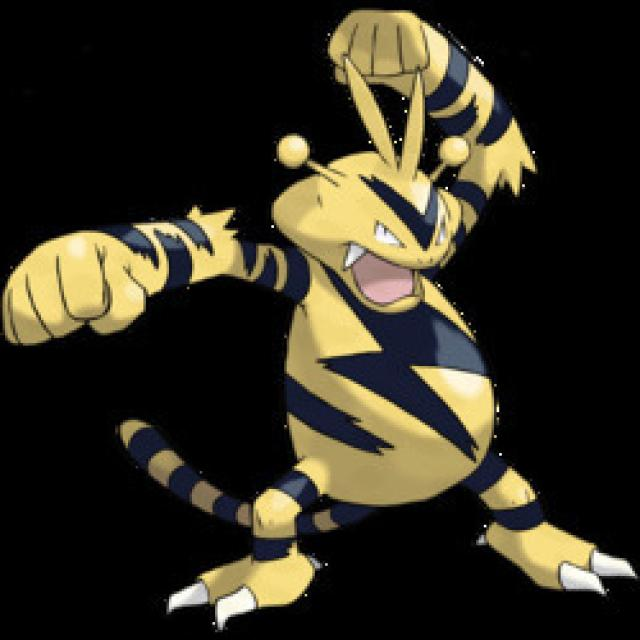Electabuzz: (150, 66, 552, 597)
